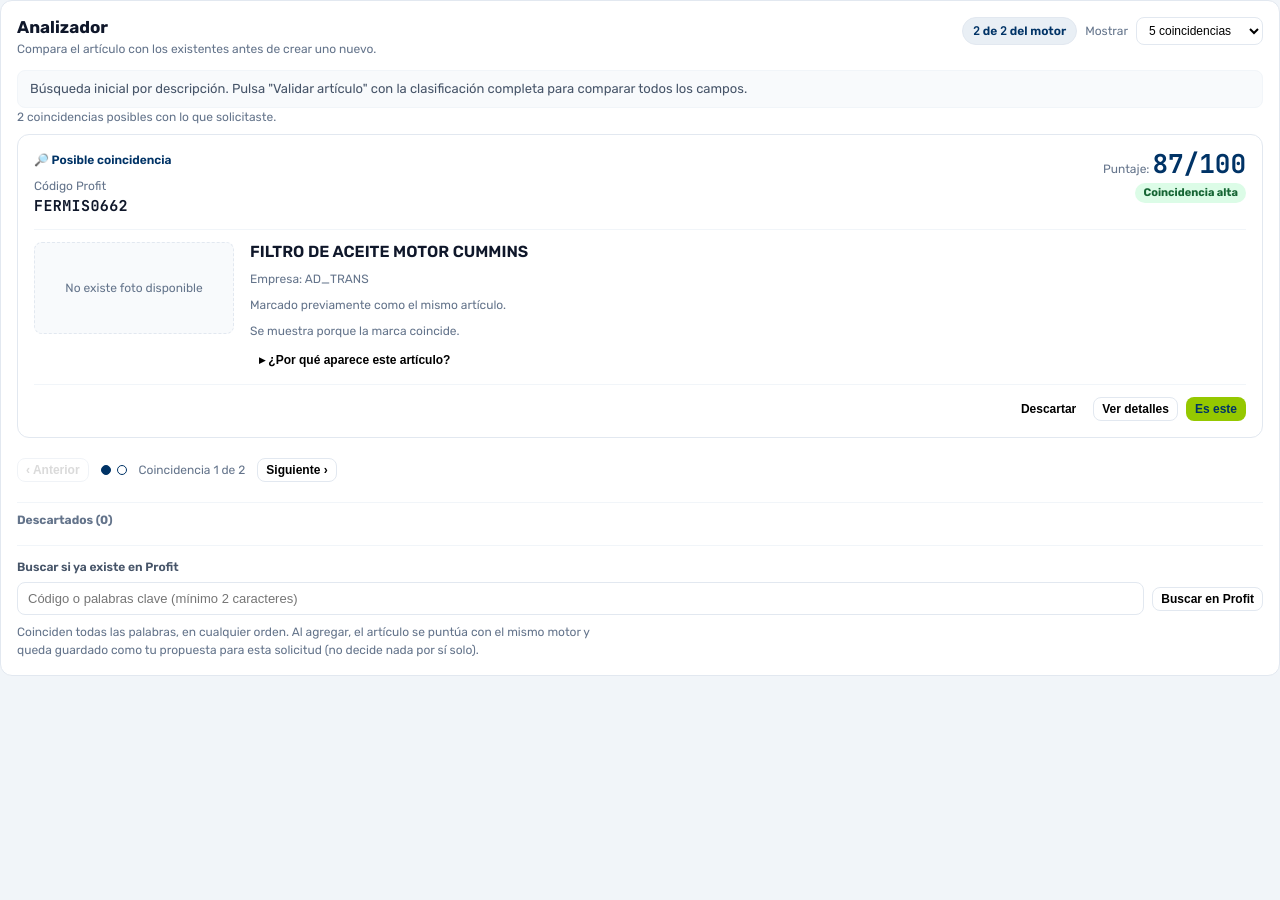
it: Analizador › decisiones previas se muestran sin inventar
The image size is (1280, 900).
Expected: the text "Marcado previamente como el mismo artículo." is shown, top-left (250, 298), bottom-right (506, 312)
Click the button with aria-label "Coincidencia siguiente". click: (297, 470)
box: top-left (257, 458), bottom-right (337, 482)
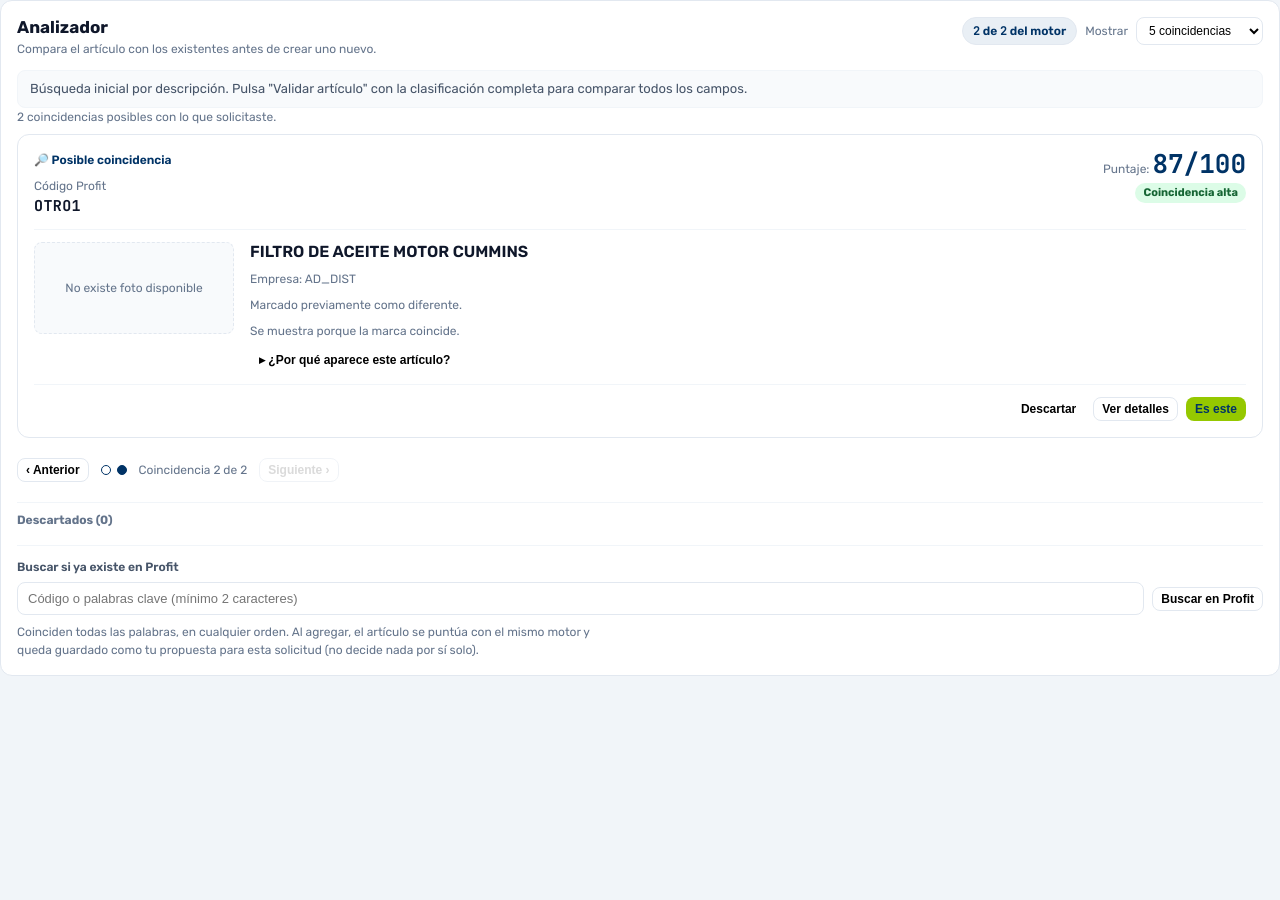
Expected: the text "Marcado previamente como diferente." is shown, top-left (250, 298), bottom-right (462, 312)
